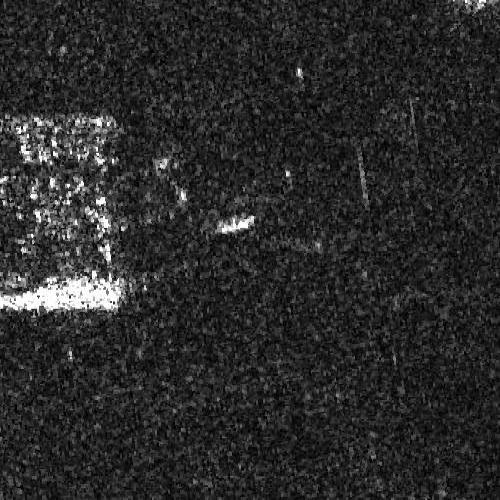ship: (213, 212, 257, 236)
